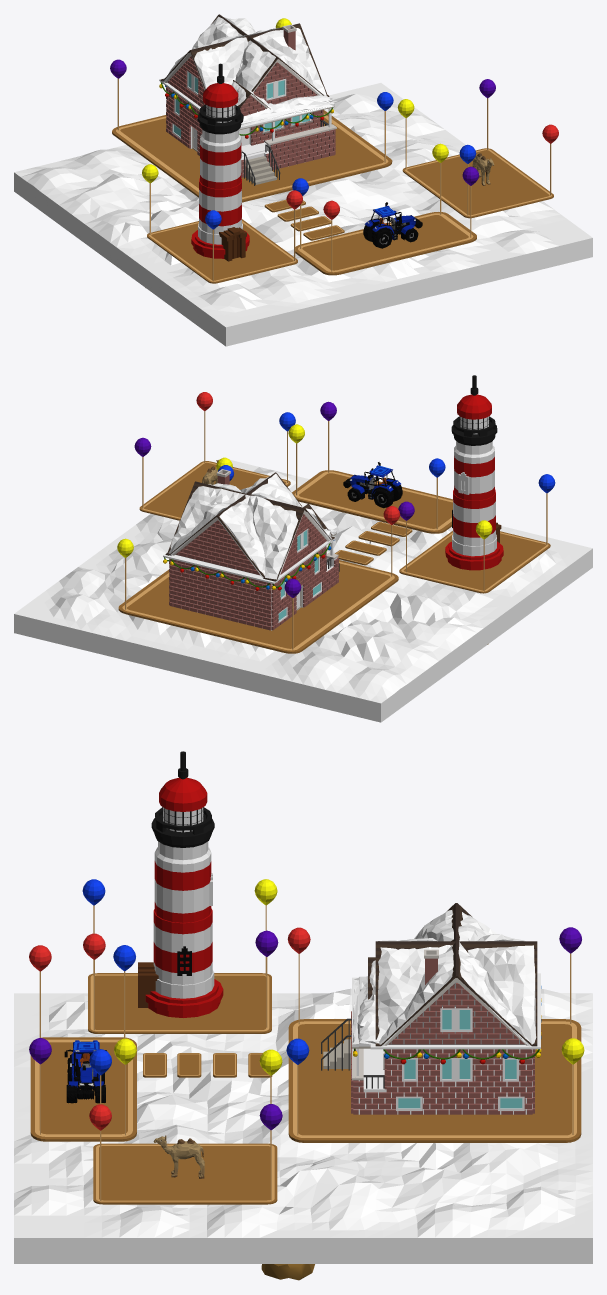
3 views of the same model, one above another, from view 1: azimuth 30°, elevation 25°; view 2: azimuth 150°, elevation 25°; view 3: azimuth 270°, elevation 25° (orthographic). The views are drawn at different scales.
Visible parts, largest first — view 1: Cube.013, Cube.1419, OBJRANDOM_LIGHTHOUSE, VEHICLES_TRACTOR; view 2: Cube.013, Cube.1419, OBJRANDOM_LIGHTHOUSE, VEHICLES_TRACTOR; view 3: Cube.013, Cube.1419, OBJRANDOM_LIGHTHOUSE, VEHICLES_TRACTOR, ANIMAL_CAMELLO, UNDERGROUND_T_REX_BONES.
Boxes of the visible parts, x1,y1,x2,y2 form: Cube.013: (14,18,592,346); Cube.1419: (159,14,336,185); OBJRANDOM_LIGHTHOUSE: (191,63,249,261); VEHICLES_TRACTOR: (363,202,422,248); Cube.013: (14,392,592,722); Cube.1419: (163,469,339,630); OBJRANDOM_LIGHTHOUSE: (445,375,503,570); VEHICLES_TRACTOR: (343,462,402,508); Cube.013: (14,879,592,1263); Cube.1419: (321,903,541,1114); OBJRANDOM_LIGHTHOUSE: (138,751,223,1017); VEHICLES_TRACTOR: (64,1040,106,1103); ANIMAL_CAMELLO: (153,1135,204,1178); UNDERGROUND_T_REX_BONES: (261,1264,314,1280).
Size of the model in its own units: 4000 by 2513 by 4000.
43 materials, 1 textured.
